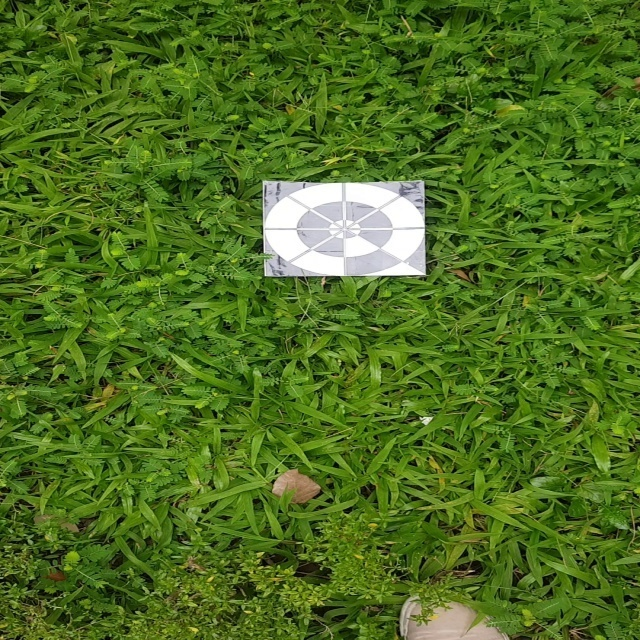landing-zone: (250, 175, 435, 286)
